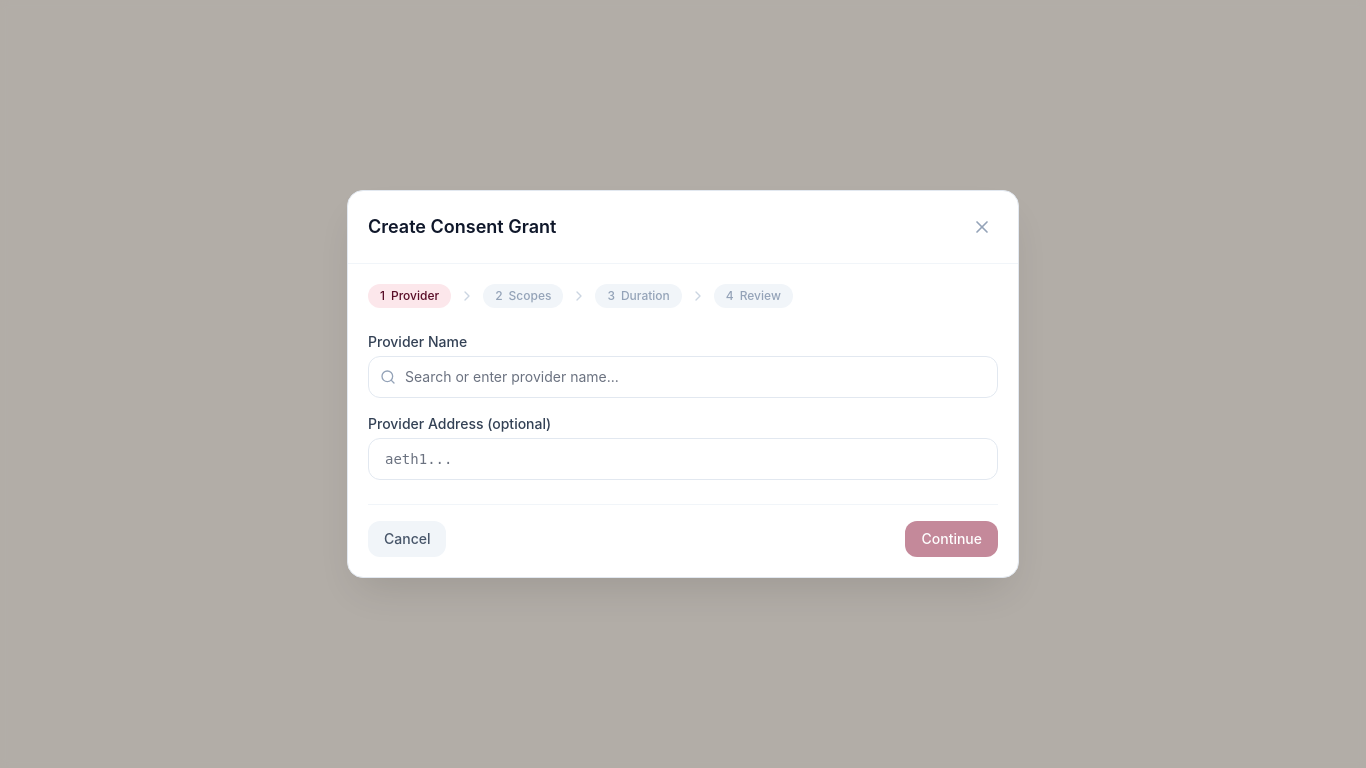
CreateConsentModal › navigates back to step 1 by clicking step indicator
// Enter provider name
In the field with placeholder "Search or enter provider name...": (683, 377) [368,356,998,398], type "Test Provider"
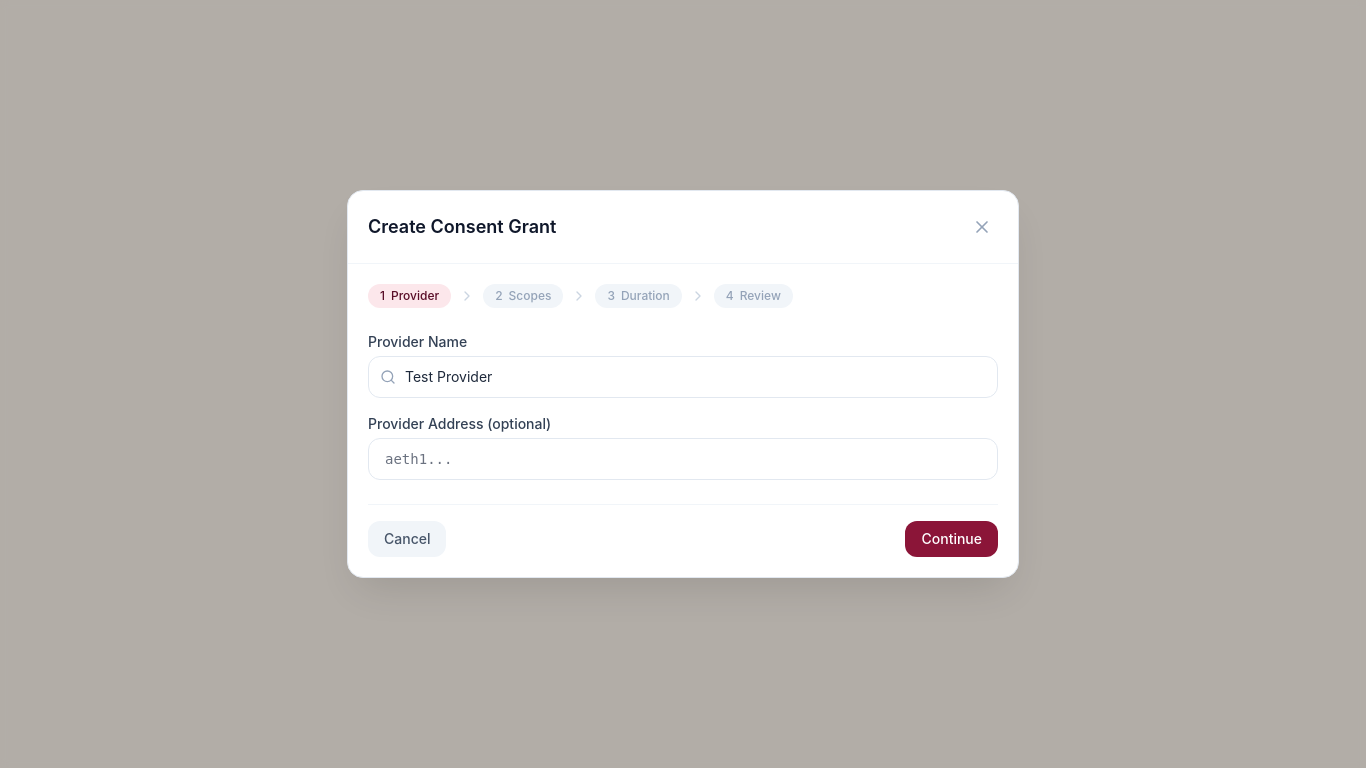
// Go to step 2
Click the button "Continue": (952, 539) [906,521,998,557]
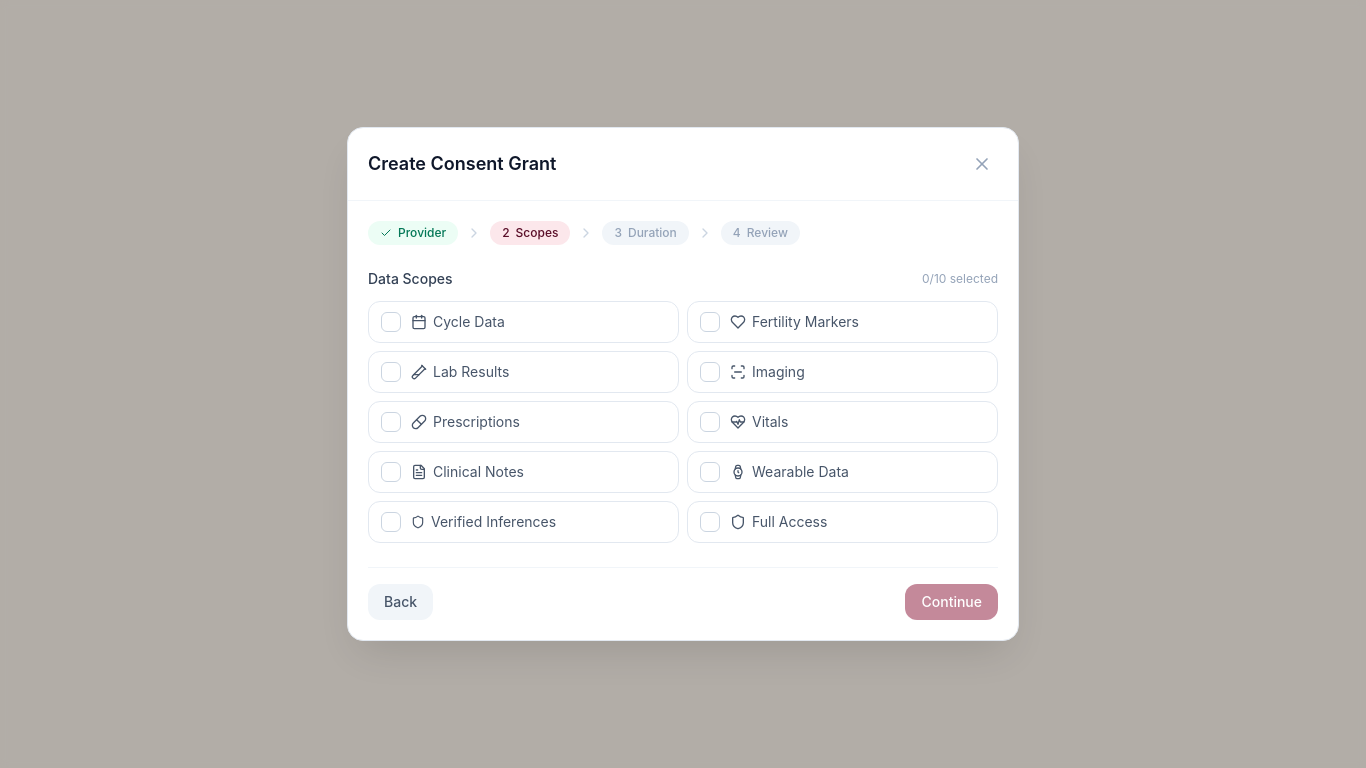
// Now click on "Provider" step indicator to go back
Click the button "Provider": (413, 233) [368,221,458,245]
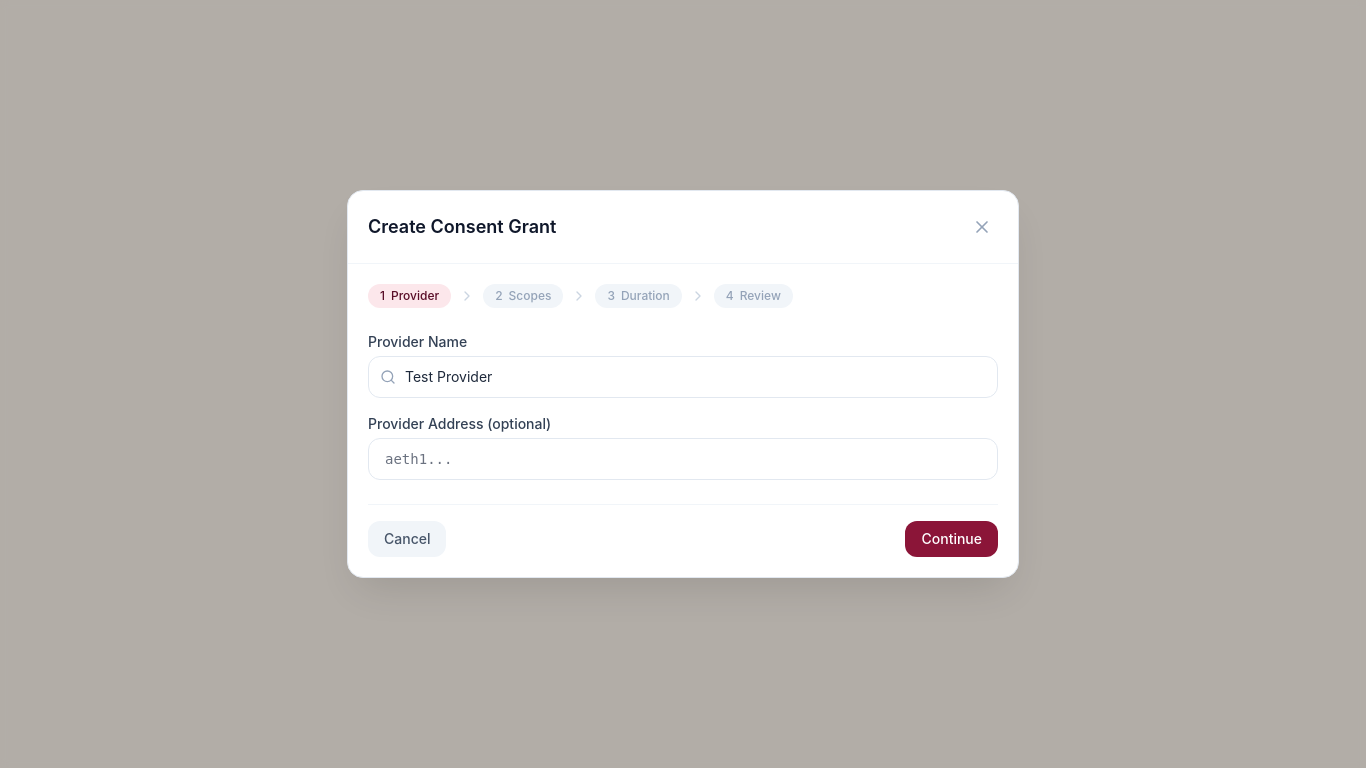
Expected: the field with placeholder "Search or enter provider name..." is shown, [368,356,998,398]
